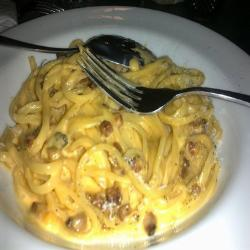carbonara: (15, 43, 218, 238)
